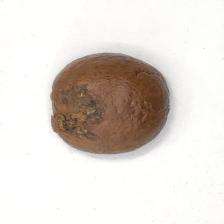NG: (48, 82, 109, 143)
